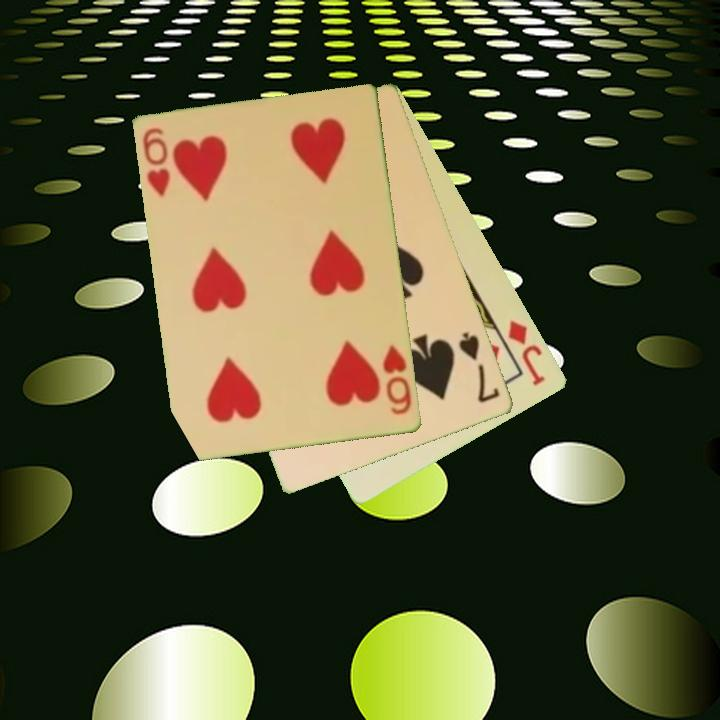6h: (379, 342, 415, 418), (139, 124, 173, 200)
7s: (455, 329, 503, 406)
Jd: (504, 317, 549, 389)
